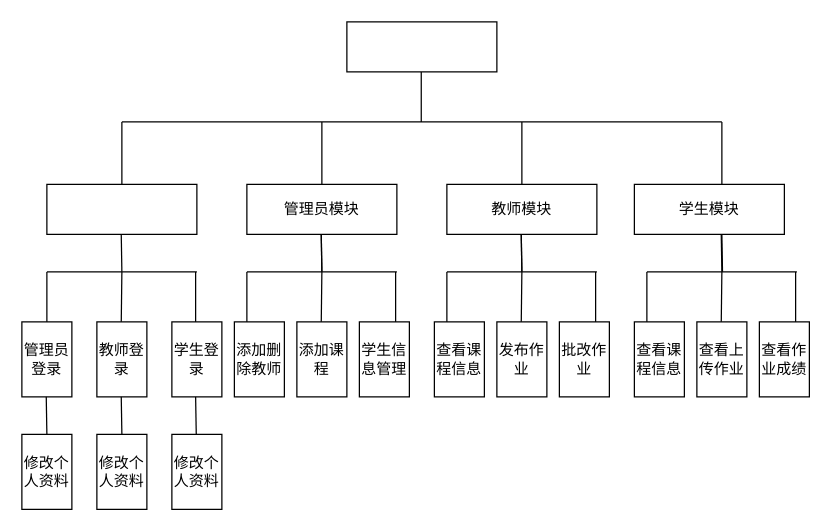
This 831x531 diagram has some shape labels left out. Each missing label, with the box of its shape:
作业管理系统: (346, 21, 497, 72)
登录模块: (46, 183, 197, 234)
